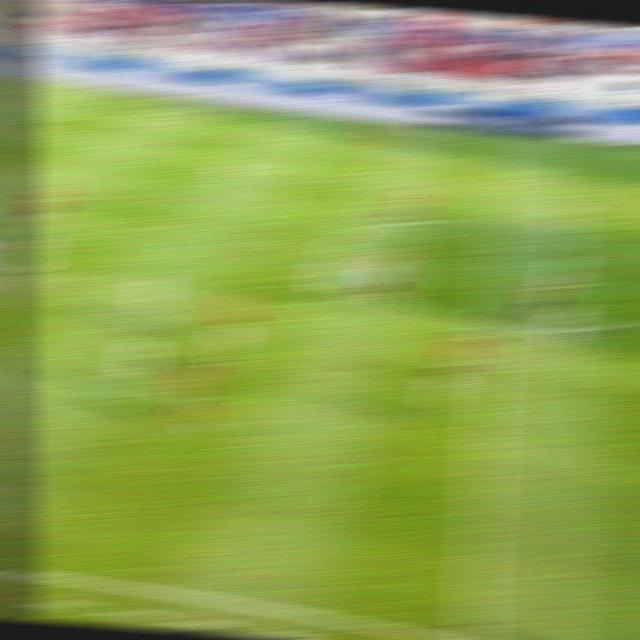bigarea_top_inner: (6, 115, 39, 134)
halfcircle_bottom: (469, 309, 513, 341)
halfcircle_top: (476, 211, 519, 235)
midline_bottom_intersection: (446, 623, 502, 640)
midline_top_intersection: (485, 135, 518, 154)
